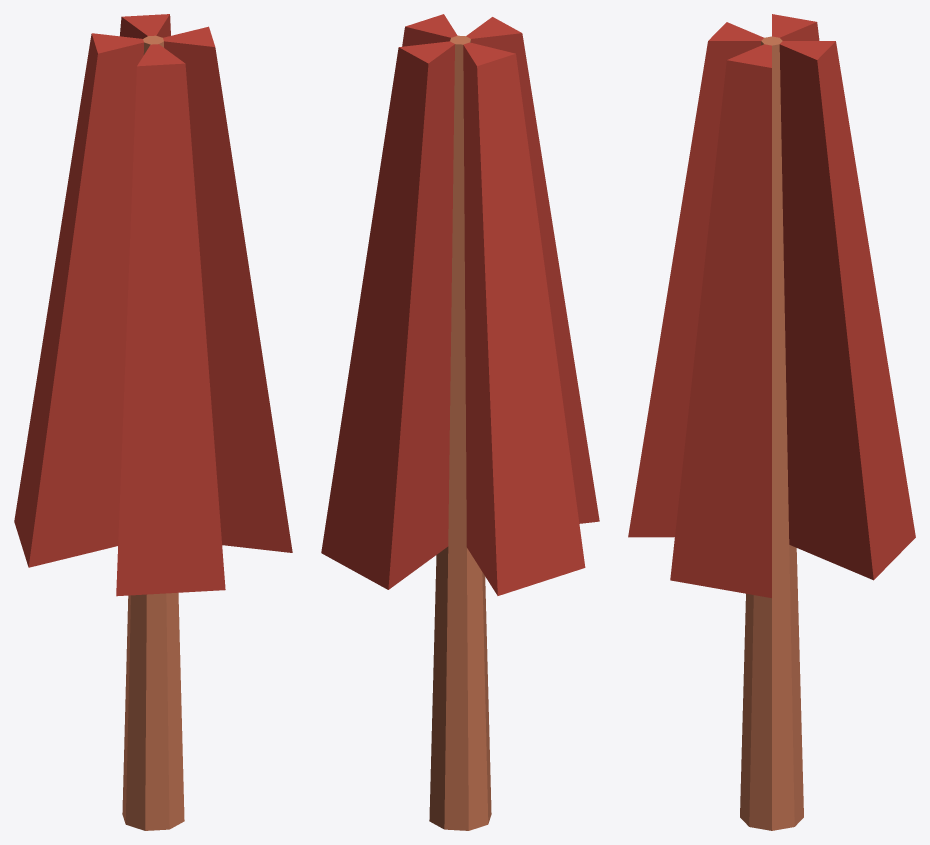
File: Tree_28_summer_red_mat.fbx
3 renders of one model, left to right at view 1: azimuth 30°, elevation 25°; view 2: azimuth 150°, elevation 25°; view 3: azimuth 270°, elevation 25°, orthographic.
Visible parts, largest first — view 1: Tree_28_summer_red_mat; view 2: Tree_28_summer_red_mat; view 3: Tree_28_summer_red_mat.
Boxes of the visible parts, x1,y1,x2,y2 form: Tree_28_summer_red_mat: (14,14,292,830); Tree_28_summer_red_mat: (321,14,599,830); Tree_28_summer_red_mat: (628,14,915,830).
Bounding box in the file's own units: 98.97 × 294 × 98.97.
